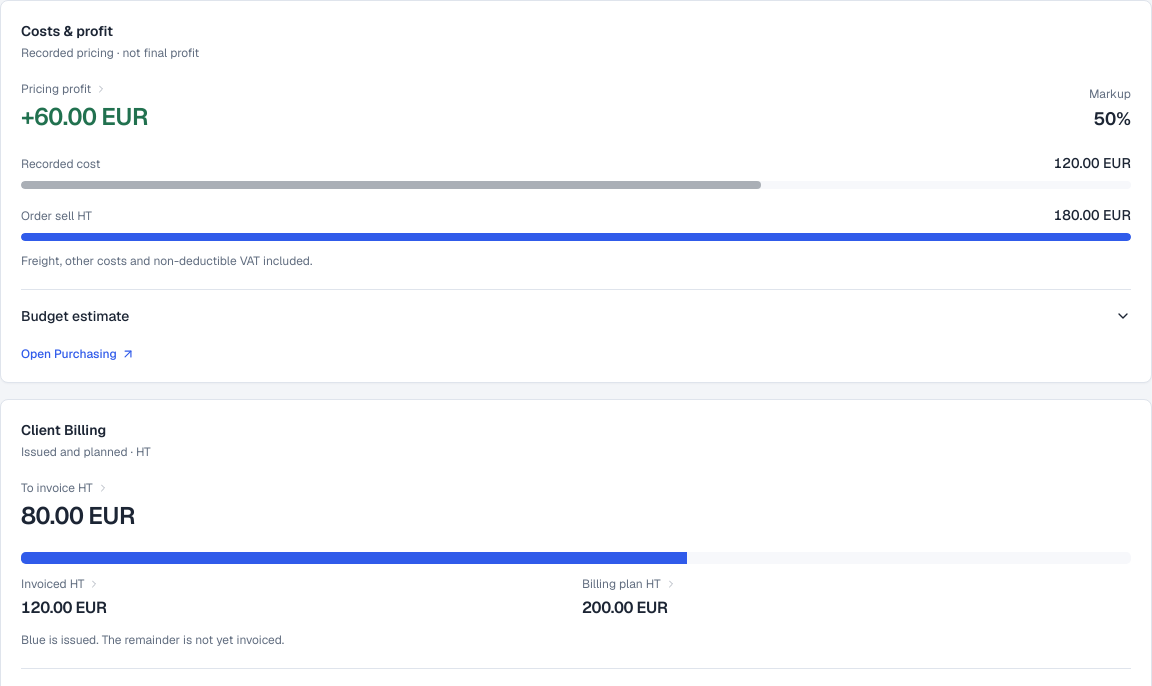
Scenario: issued drilldown excludes the future Invoice but the plan includes it
What coordinates should you click on to do the following:
click the button "Invoiced HT 120.00 EUR"
I would click on:
 (53, 584)
Its box is x1=21 y1=576 x2=570 y2=620.
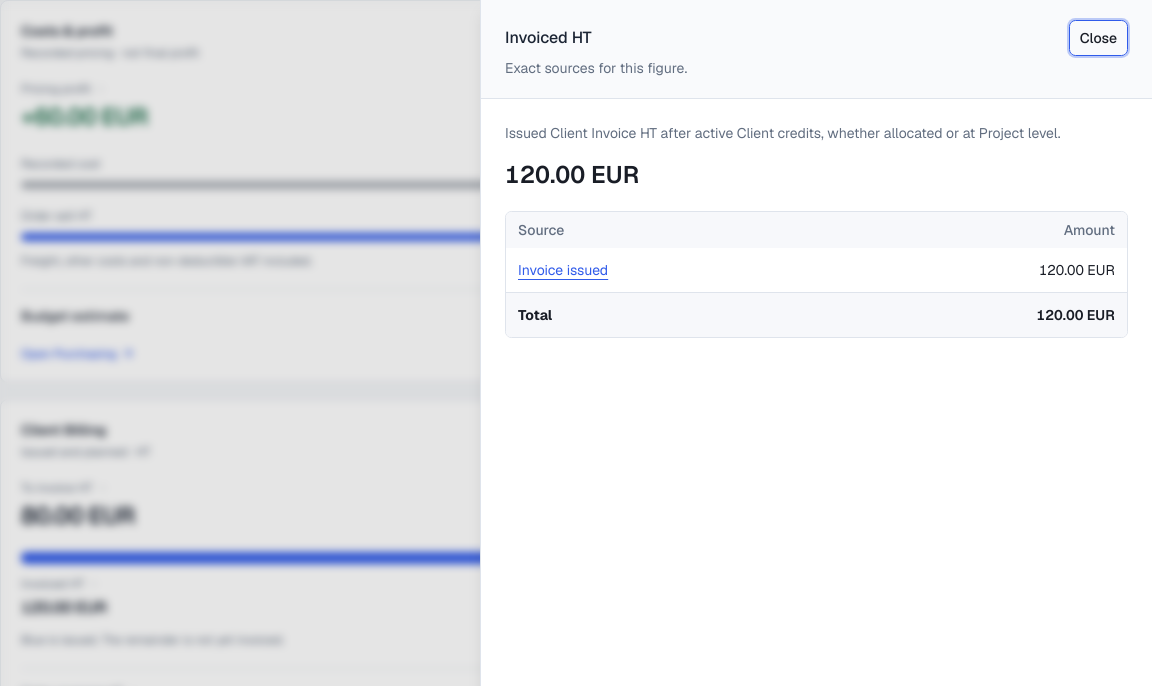
Expected: the dialog shows "Invoice issued", x1=518 y1=261 x2=608 y2=279
